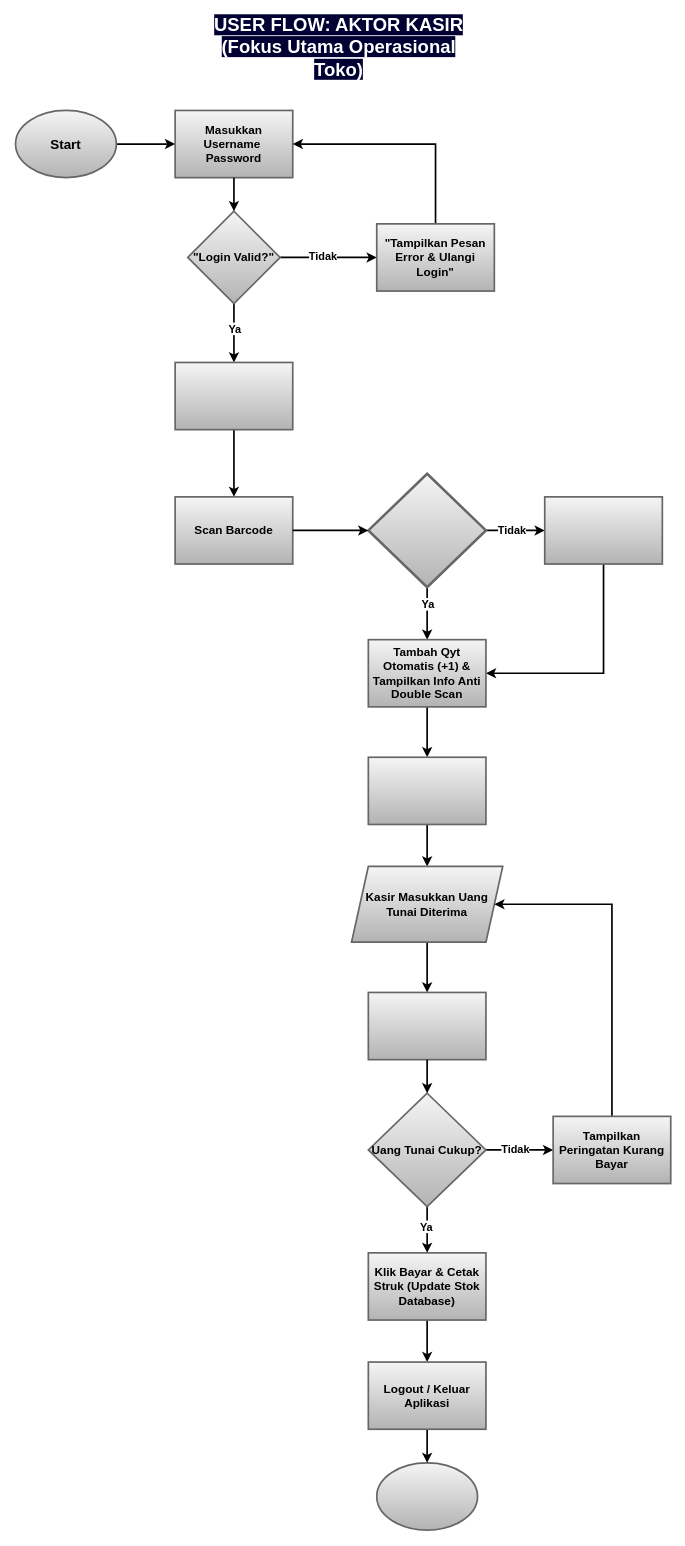
Image size: 685x1546. Some labels were removed from this diagram. Each missing label, with the box of its shape:
Apakah Barang Sudah ada di Keranjang?: (367, 472, 487, 588)
End: (375, 1462, 478, 1530)
Masuk Ke Halaman Utama Kasir & Pilih Shift: (174, 361, 293, 430)
Sistem Hitung Kembalian Otomatis: (367, 991, 486, 1060)
Sistem Menghitung Total Belanja & Sinkronisasi Diskon: (367, 756, 486, 825)
Tambah Baris Baru Ke Keranjang Belanja: (543, 496, 663, 564)
